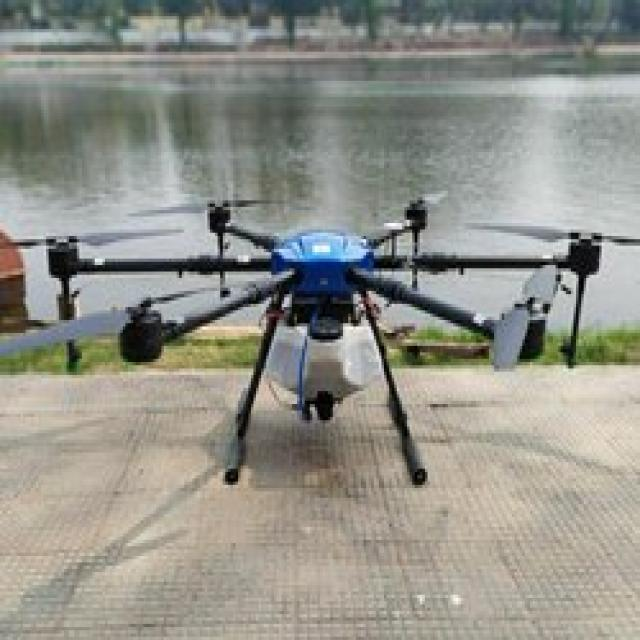drone: (28, 153, 632, 503)
